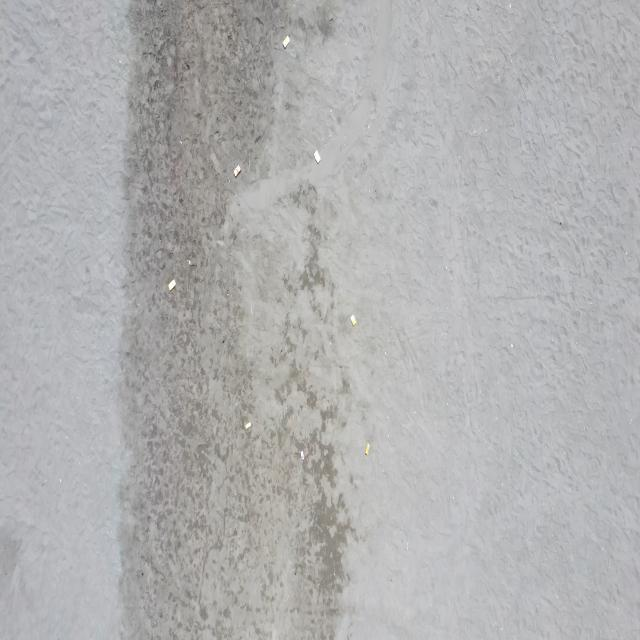Garbage: (313, 148, 320, 163), (281, 36, 288, 48), (233, 164, 240, 176), (167, 280, 175, 289), (243, 420, 251, 428), (187, 259, 195, 266), (351, 315, 356, 326), (364, 442, 368, 455), (300, 449, 303, 460), (187, 259, 191, 264)
